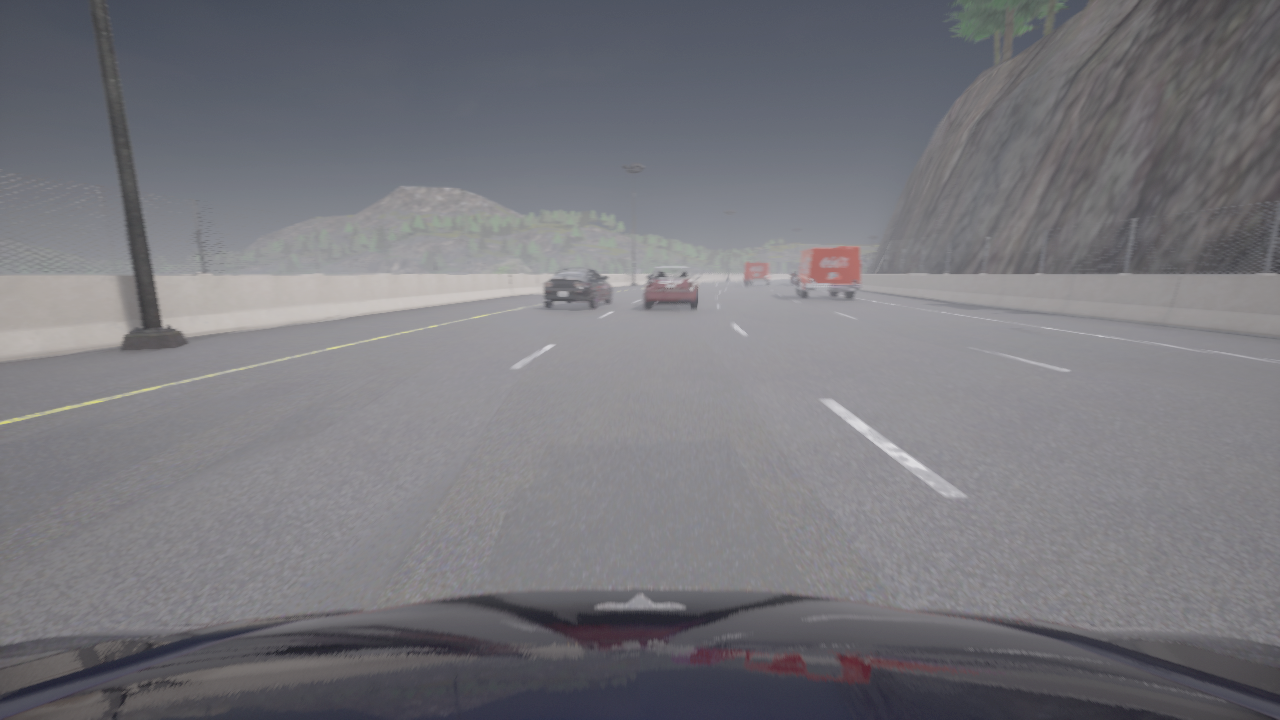cyclist: (0, 588, 1279, 719), (792, 246, 860, 298), (542, 267, 611, 308), (643, 266, 700, 309), (744, 261, 772, 285), (792, 274, 796, 285)
